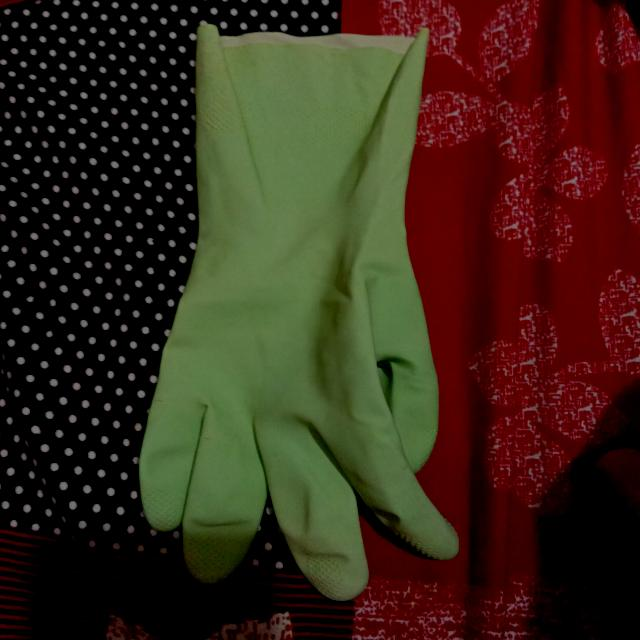glove: (129, 18, 471, 606)
